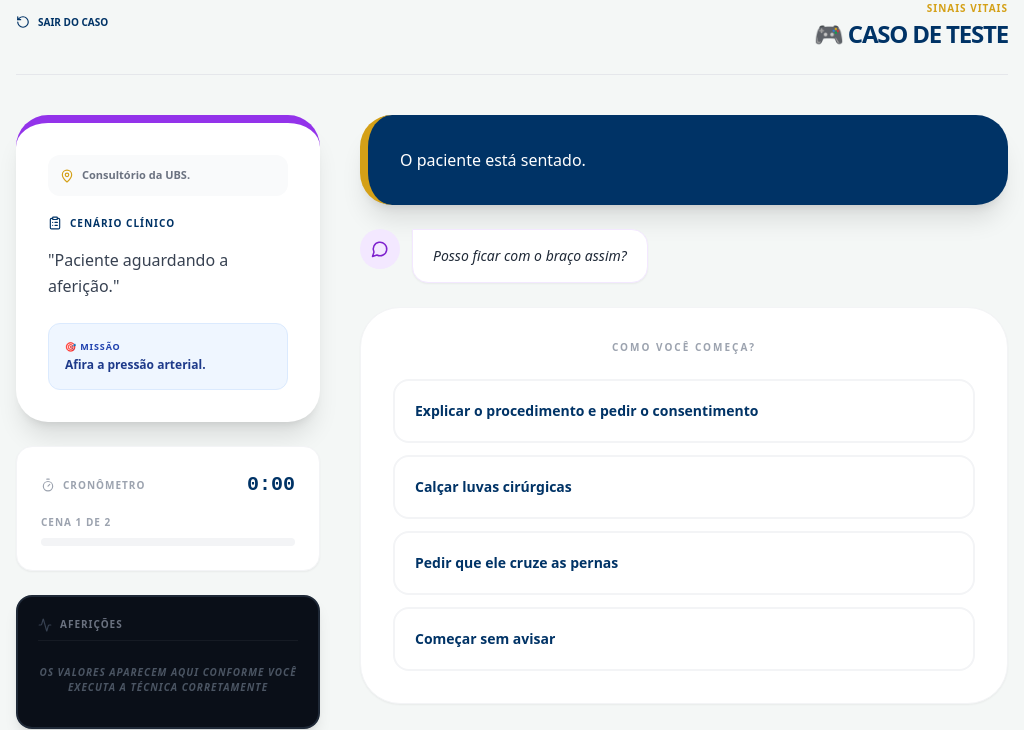
GuidedRpgView › o valor aferido NÃO aparece de graça: só depois da escolha correta da cena que o revela
Check: the text "132/84 mmHg" is not shown
What coordinates should you click on to do the following:
click the button "Explicar o procedimento e pedir o consentimento"
I would click on:
 (684, 411)
Its box is [393,379,975,443].
(page scrolled)
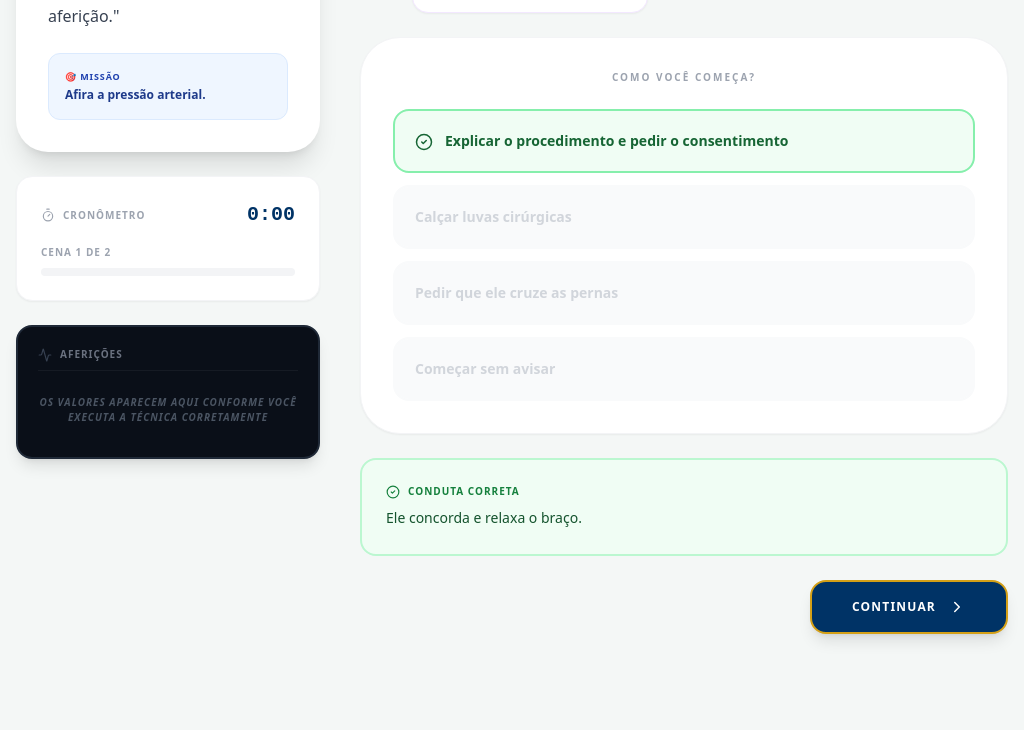
What coordinates should you click on to do the following:
click the button "Continuar"
I would click on:
 (909, 607)
Its box is [810,580,1008,634].
(page scrolled)
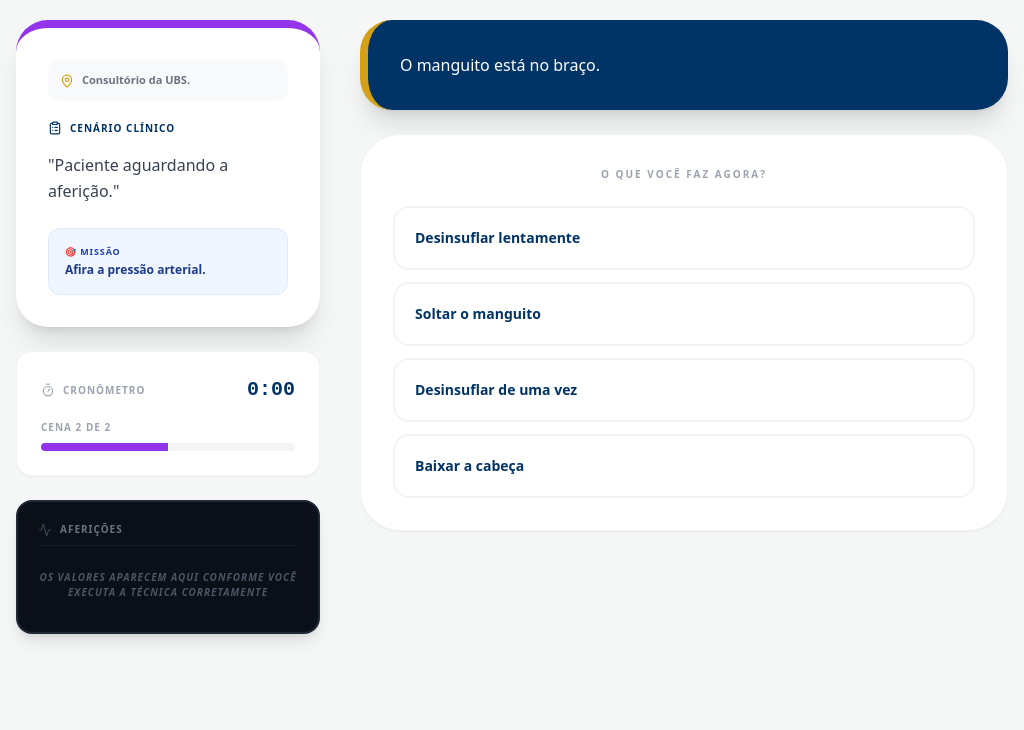
Check: the text "132/84 mmHg" is not shown
What coordinates should you click on to do the following:
click the button "Desinsuflar de uma vez"
I would click on:
 (496, 390)
Its box is [393,358,975,422].
(page scrolled)
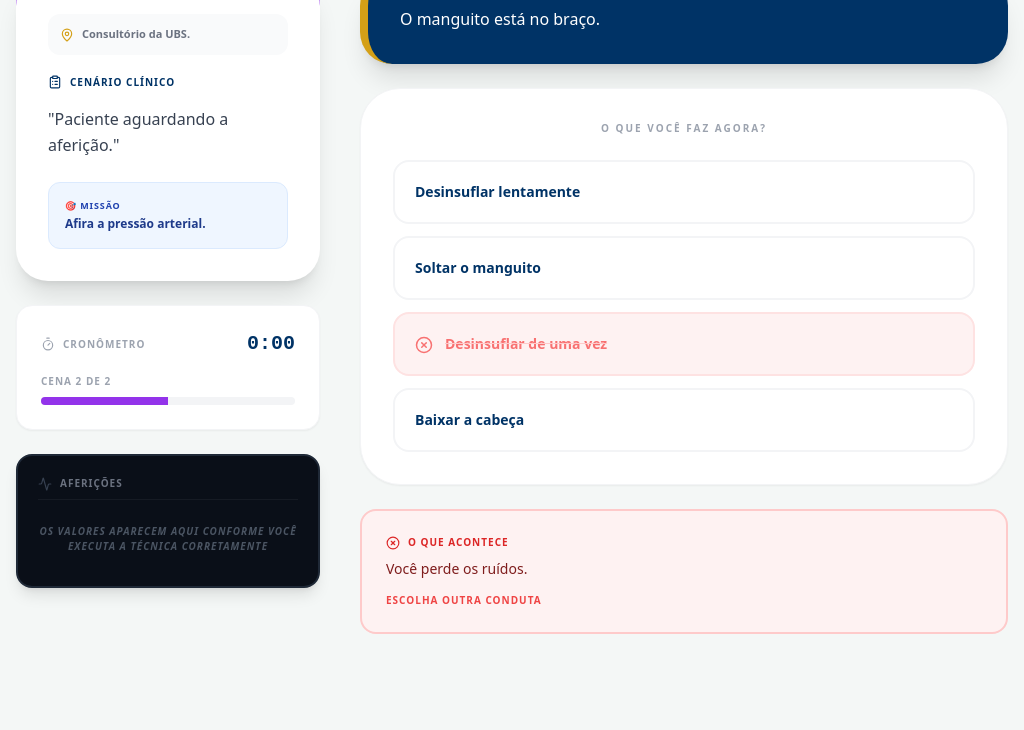
Check: the text "132/84 mmHg" is not shown
What coordinates should you click on to do the following:
click the button "Desinsuflar lentamente"
I would click on:
 (498, 192)
Its box is [393,160,975,224].
(page scrolled)
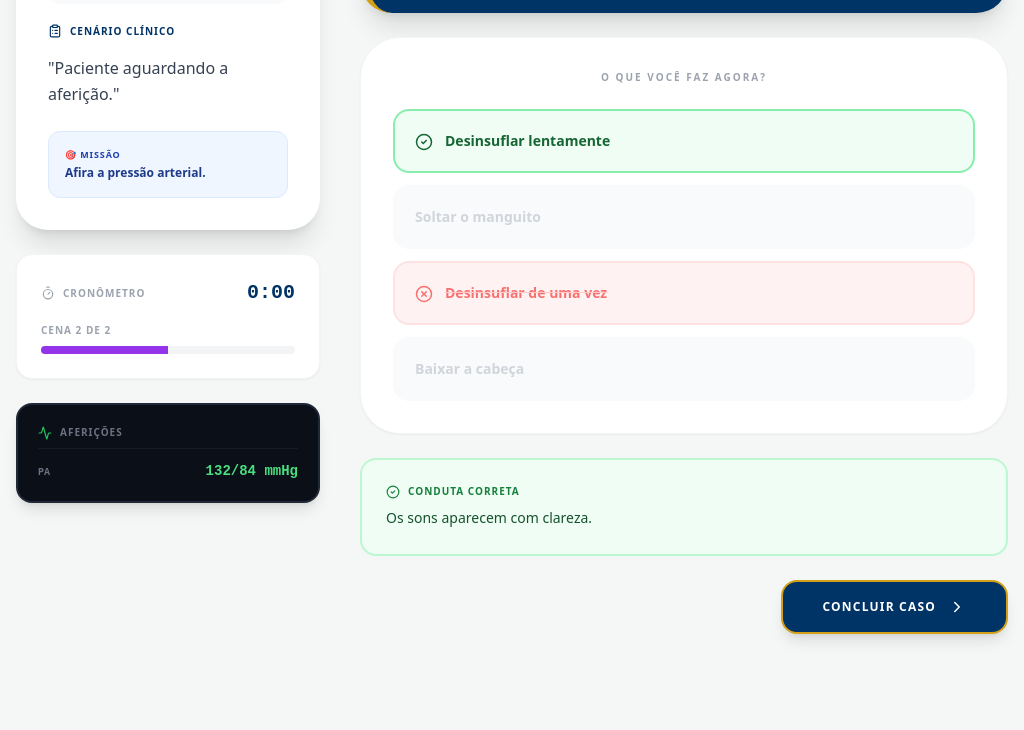
Check: the text "132/84 mmHg" is shown, box [206,461,298,481]
